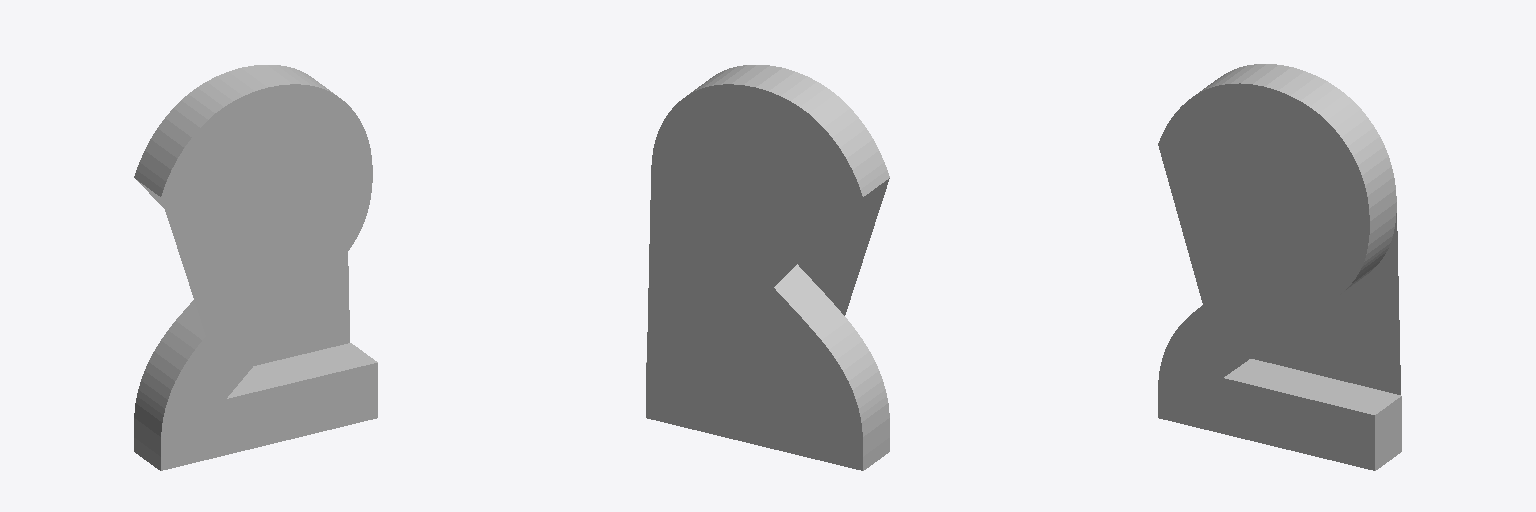
3 views of the same model, side by side, from view 1: azimuth 30°, elevation 25°; view 2: azimuth 150°, elevation 25°; view 3: azimuth 330°, elevation 25° (orthographic).
Visible parts, largest first — view 1: Cap_1, 2, Cap_2; view 2: Cap_2, 2, Cap_1; view 3: Cap_1, 2, Cap_2.
Boxes of the visible parts, <box> form: Cap_1: <box>161,84,377,470</box>; 2: <box>134,65,377,470</box>; Cap_2: <box>137,180,349,365</box>; Cap_2: <box>646,84,862,470</box>; 2: <box>646,65,889,470</box>; Cap_1: <box>798,178,889,315</box>; Cap_1: <box>1158,83,1374,470</box>; 2: <box>1193,64,1401,470</box>; Cap_2: <box>1251,213,1400,394</box>.
Size of the model in its own units: 93.38 by 146 by 20.